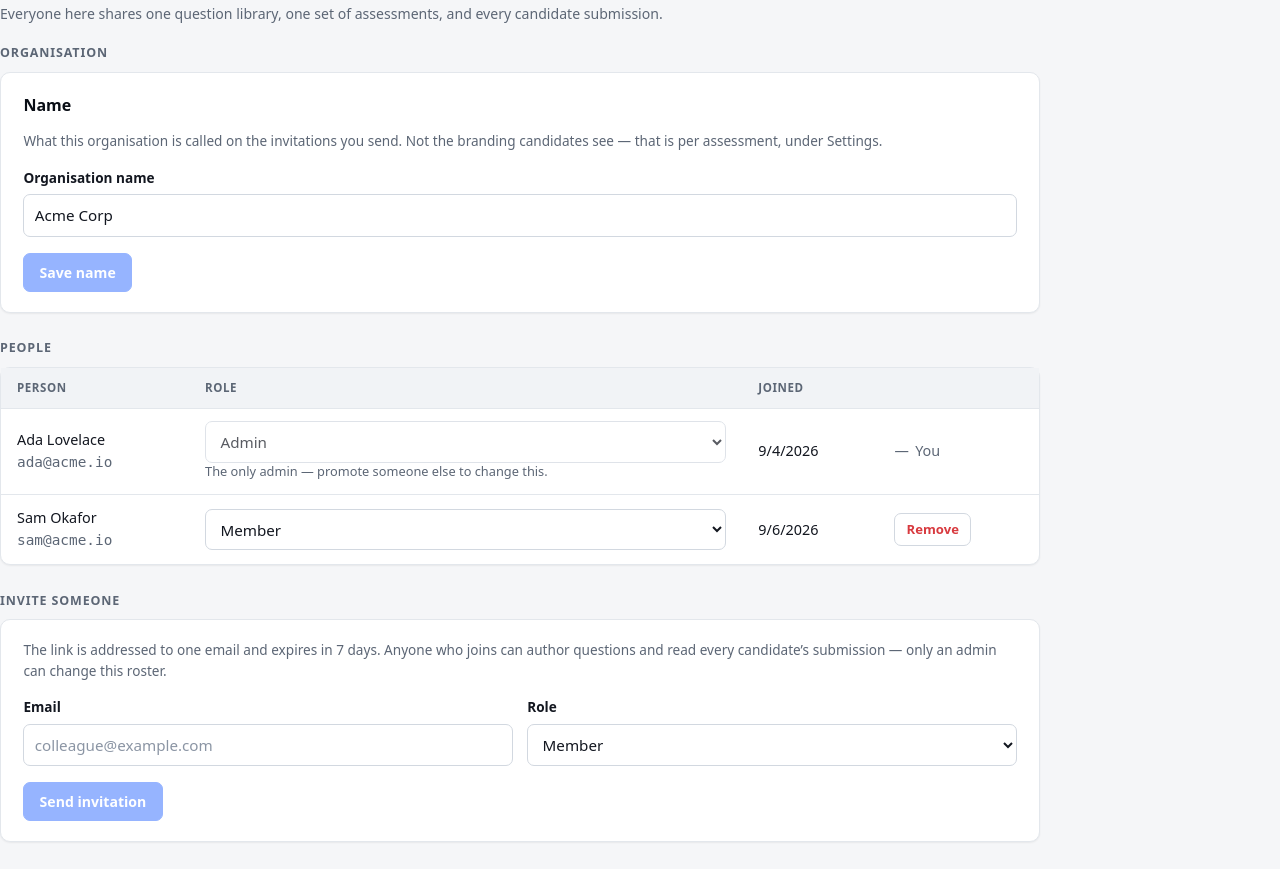
Test case: TeamPage › sends an invitation and shows it as pending
expect the text "Sam Okafor" is shown: met, box [17,507,97,529]
Type "priya@acme.io" into the field labelled "Email" at (268, 745), box [23,724,513,766]
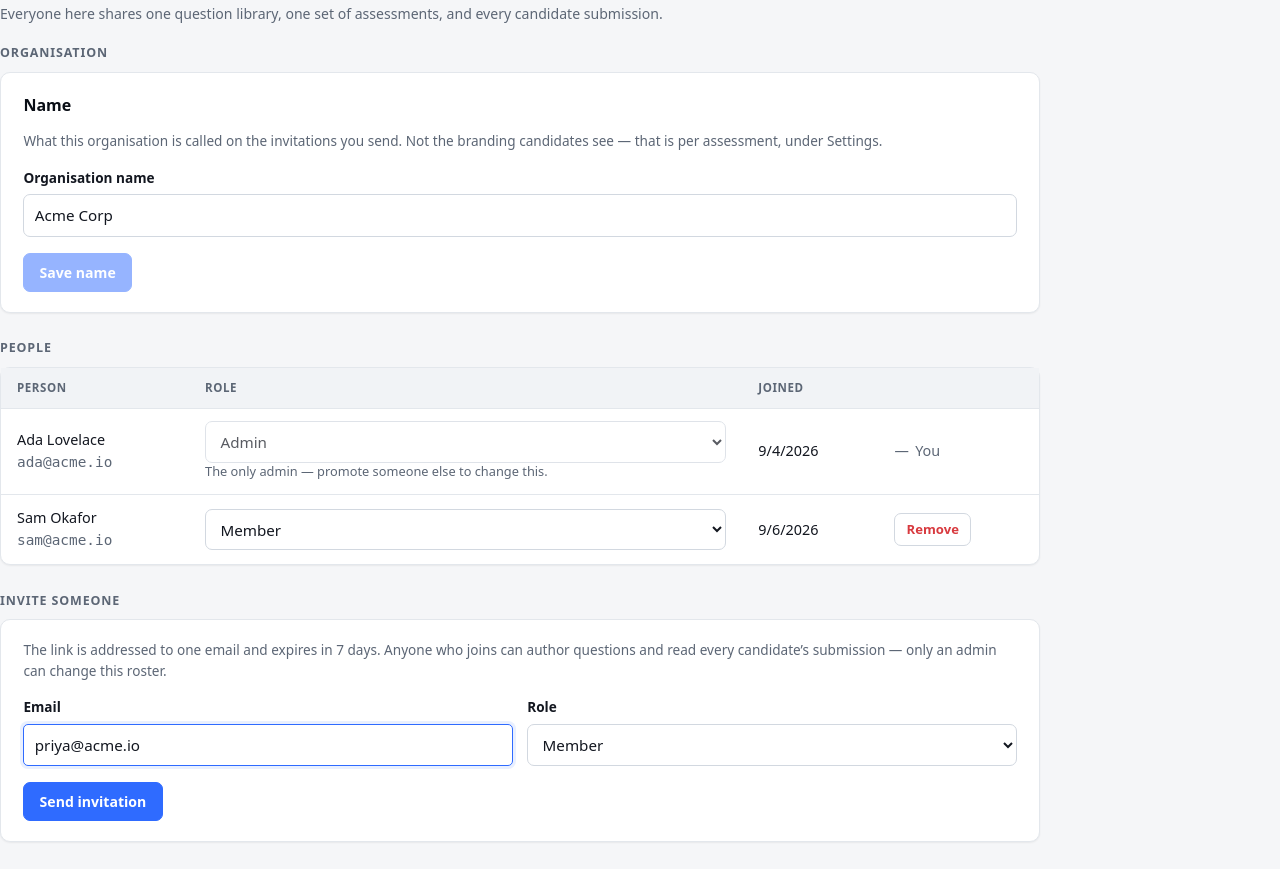
Click the button "Send invitation" at (93, 802), box [23,782,162,821]
(page scrolled)
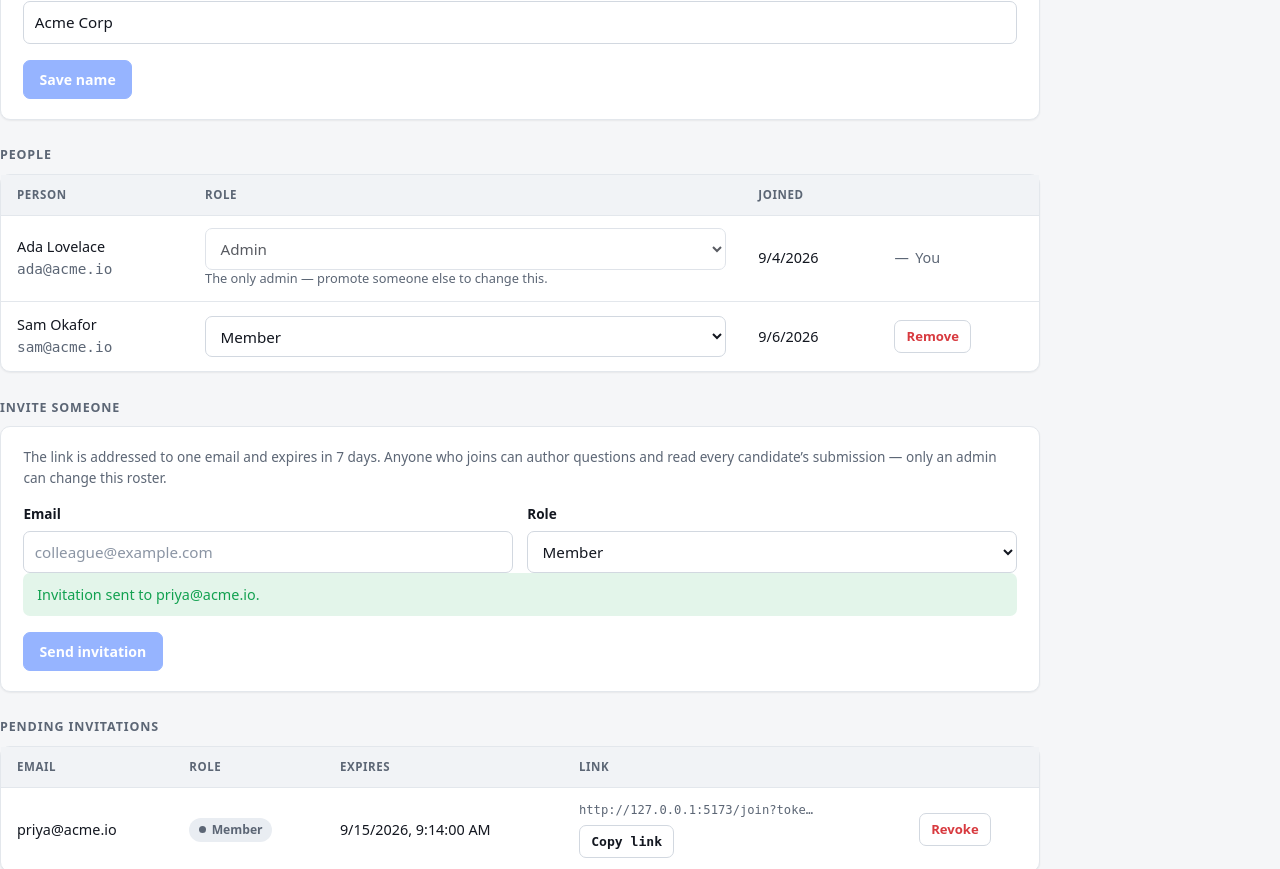
expect the text "Invitation sent to priya@acme.io." is shown: met, box [23,573,1017,616]
expect the text "http://127.0.0.1:5173/join?token=abc" is shown: met, box [579,801,819,819]
